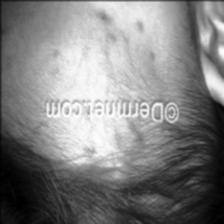Toxin: (48, 45, 69, 78), (76, 138, 104, 162), (123, 122, 149, 144), (132, 16, 150, 42), (97, 8, 119, 28)
